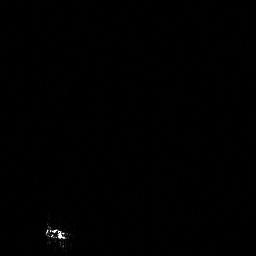ship: (42, 221, 72, 249)
